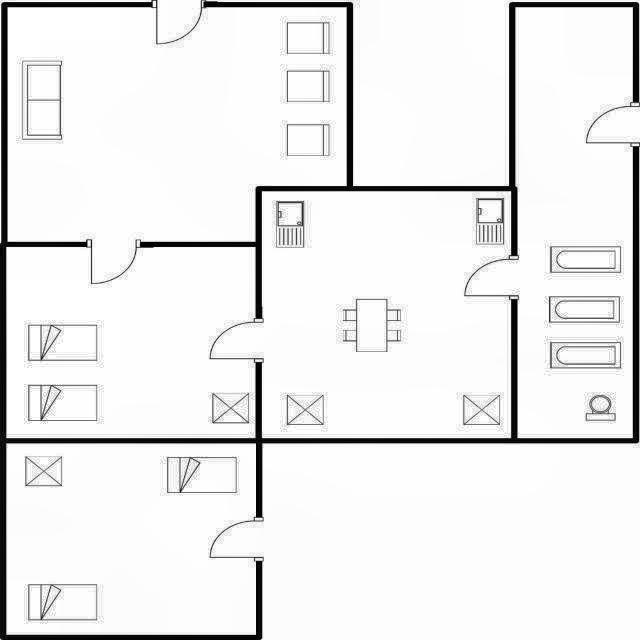room: (7, 7, 347, 242), (262, 191, 511, 438), (515, 7, 633, 438), (6, 443, 256, 635), (6, 247, 256, 438)
